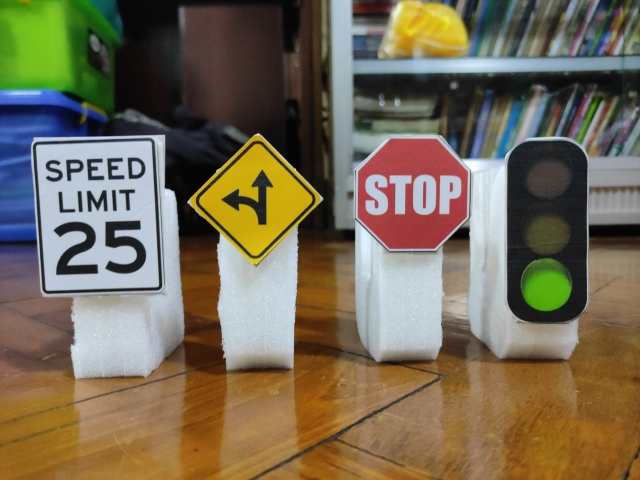Green Traffic Light: (505, 137, 589, 324)
Speed Limit 25: (31, 137, 166, 297)
Stop Sign: (353, 133, 471, 254)
Straight Or Left Sign: (193, 138, 319, 262)
